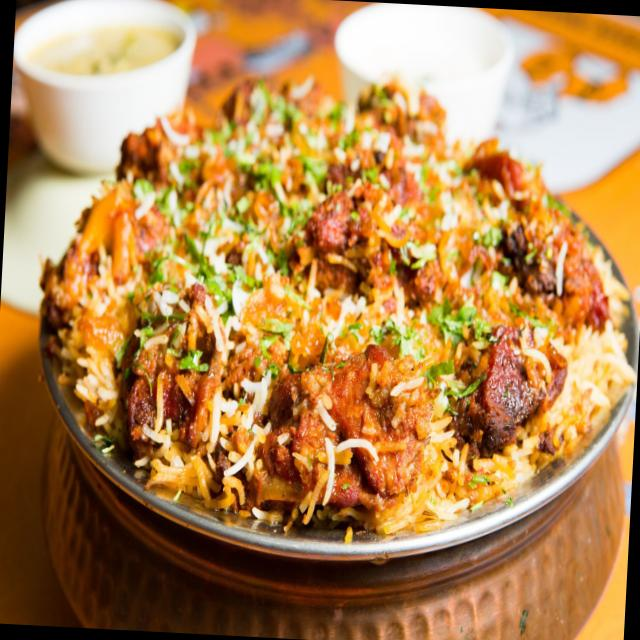Biryani: (25, 42, 640, 557)
